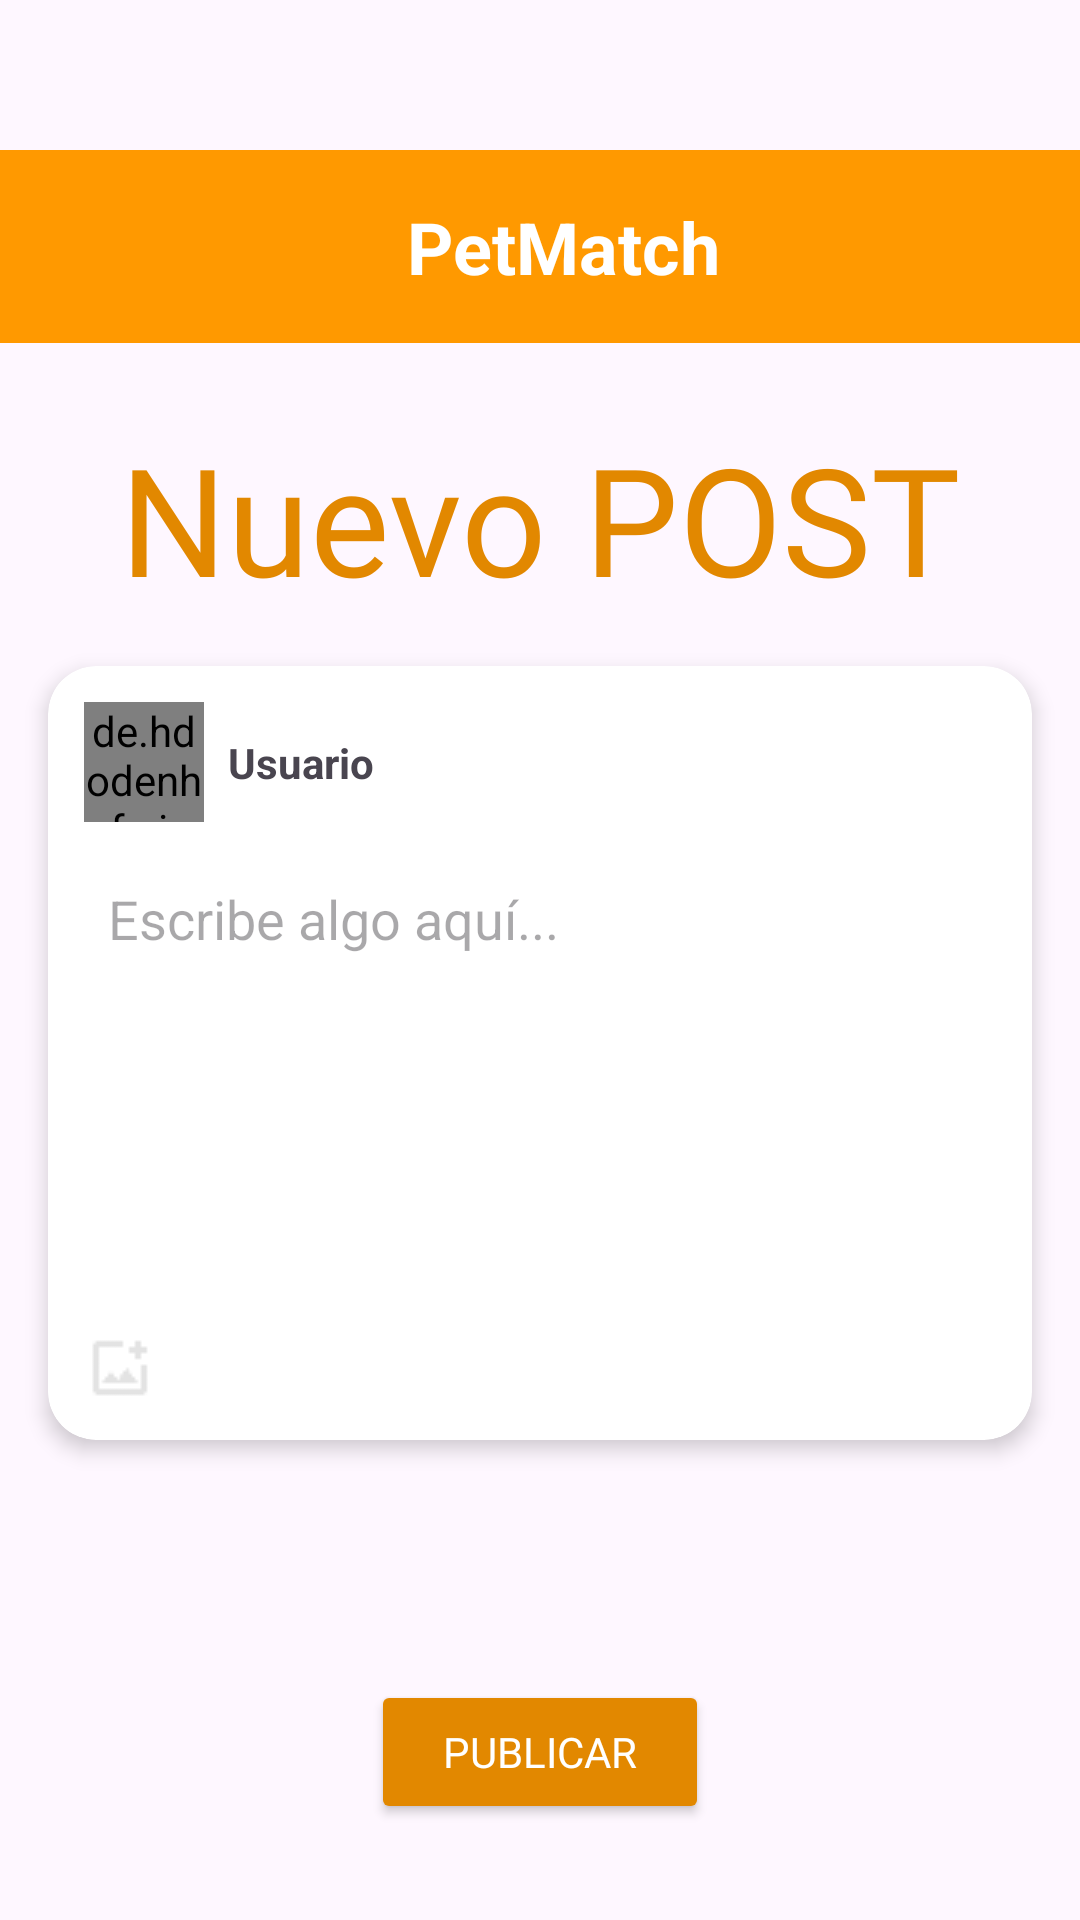

Icons on this 1080 × 1920 Android screen, each with the point to tap as [x,y]:
foto: [120,1368]
